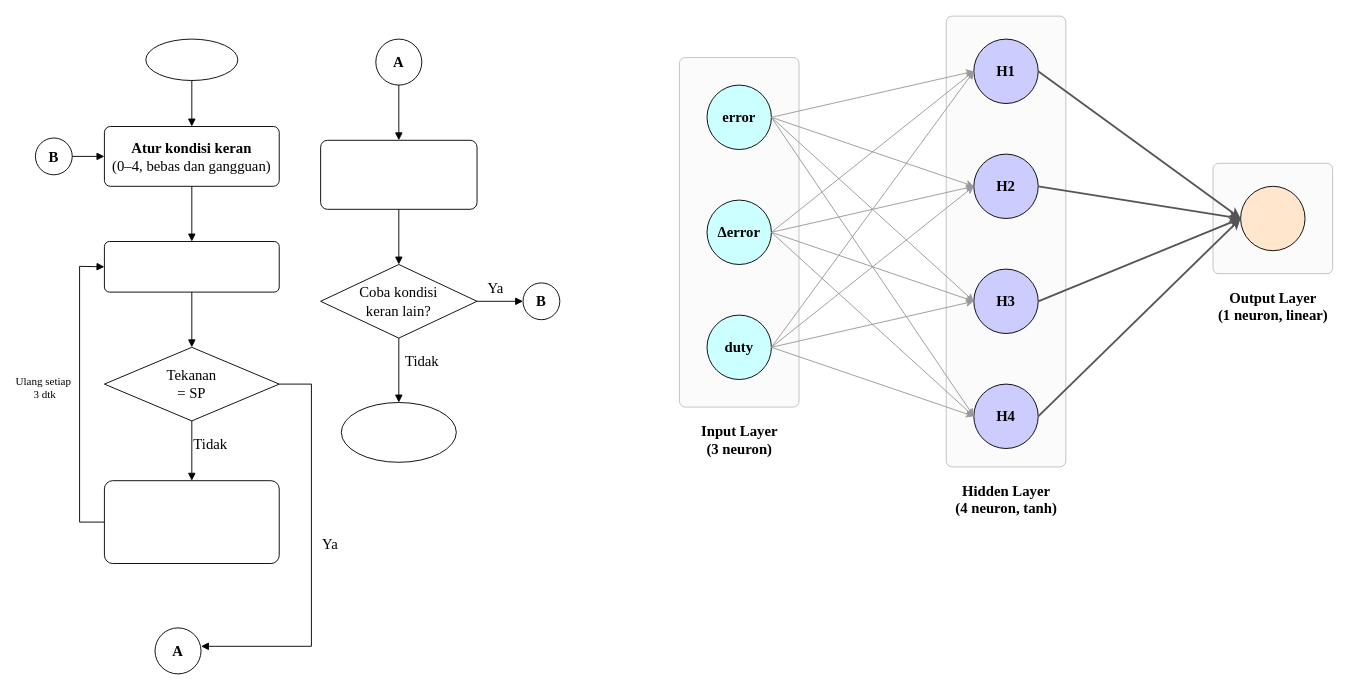
Image size: 1363x690. Some labels were removed from this diagram. Here are the shapes that lost their labels. From the top down, the box of each, then its label:
(145, 38, 238, 80): MULAI
(320, 139, 477, 209): Tekanan stabil ( error , Δ error , duty ) simpan data
(1240, 185, 1305, 251): Δduty
(104, 241, 279, 292): Baca tekanan air (sensor)
(340, 402, 456, 462): STOP Pengumpulan Dataset
(104, 480, 279, 564): Ubah duty cycle naik bila < 0,30 bar turun bila > 0,30 bar (batas 70–95%)
